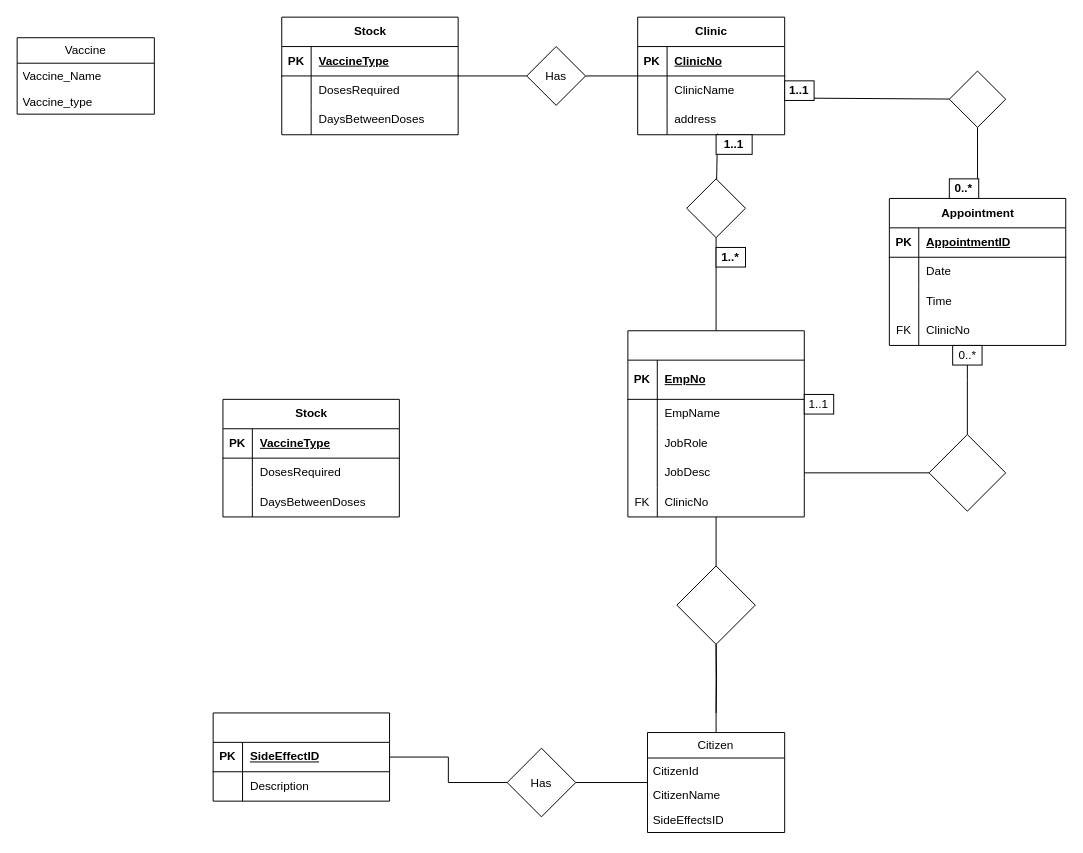
The diagram is 1083 pixels wide and 853 high, and some of its shapes have lost their labels. The shapes that lost their labels are listed below. From the top down, each one's box as (x1, y1, x2, y2) in pixels, then its label:
(948, 70, 1006, 127): Schedules
(686, 178, 745, 238): Works At
(627, 330, 804, 517): Staff
(928, 434, 1006, 511): Administers
(676, 565, 755, 644): Monitors
(212, 712, 390, 801): SideEffects
